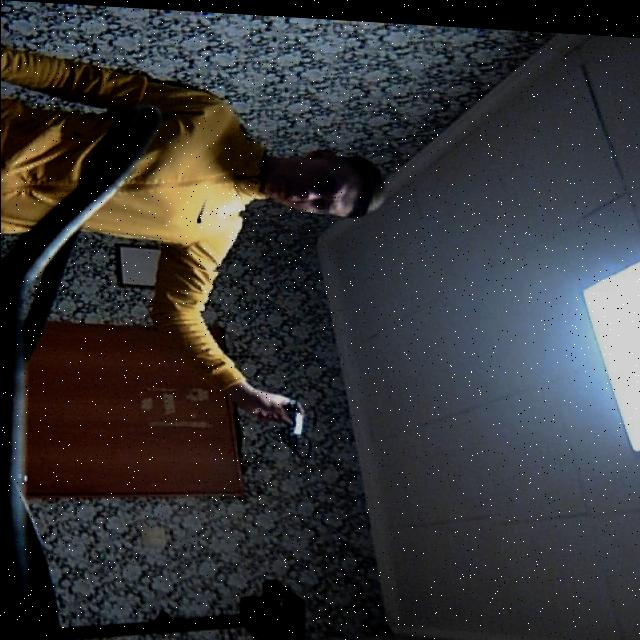drone: (272, 380, 328, 460)
